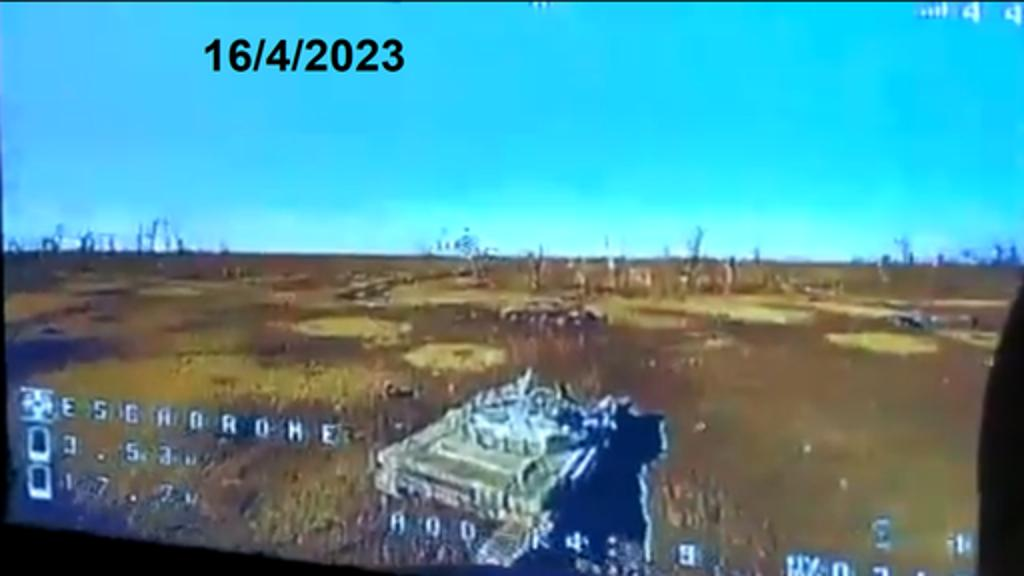TANK: (370, 360, 626, 534)
